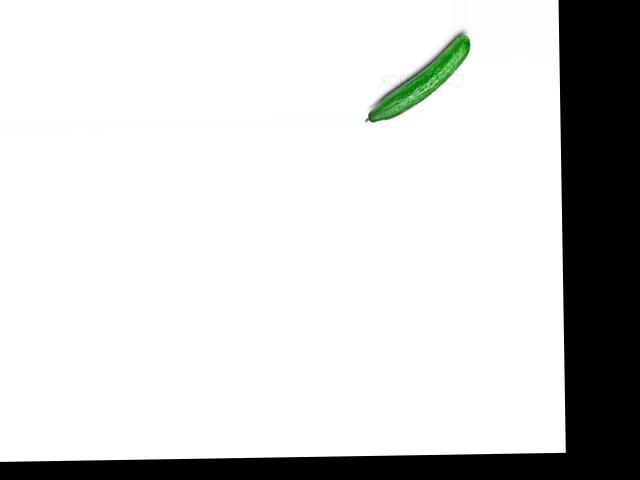cucumber: (362, 33, 470, 122)
